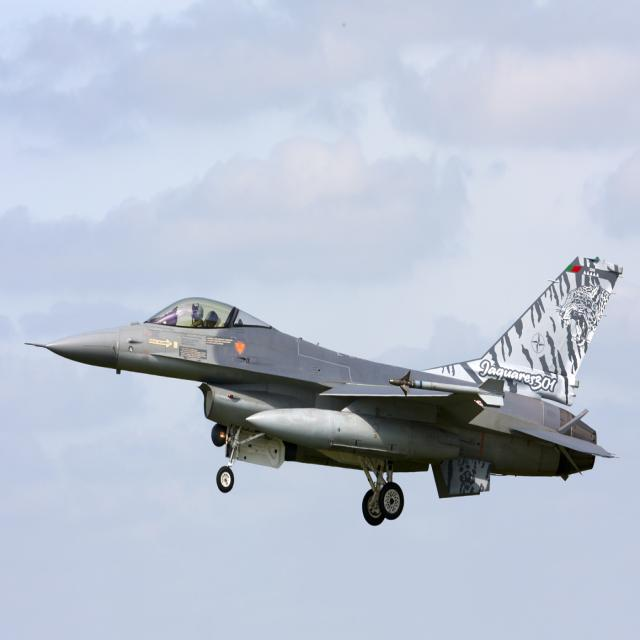MIL_Plane: (23, 256, 626, 528)
